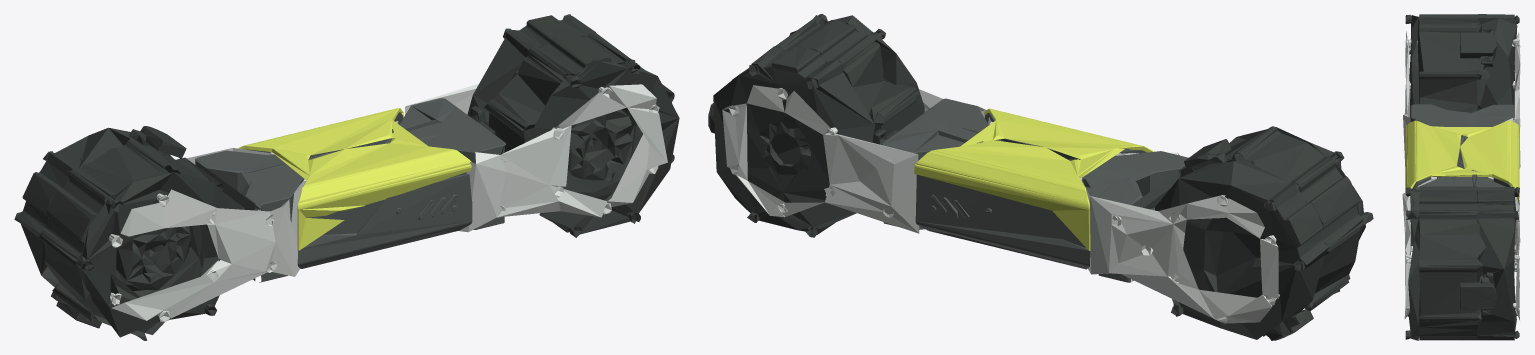
3 renders of one model, left to right at view 1: azimuth 30°, elevation 25°; view 2: azimuth 150°, elevation 25°; view 3: azimuth 270°, elevation 25°, orthographic. The views are drawn at different scales.
Visible parts, largest first — view 1: motor_2_3, cnc2, pla2_black, pla2_green; view 2: motor_2_3, cnc2, pla2_black, pla2_green; view 3: motor_2_3, pla2_green, pla2_black, cnc2.
Part boxes in pixels (left/top/right/bottom): motor_2_3: left=14, top=14, right=679, bottom=340; cnc2: left=108, top=83, right=667, bottom=322; pla2_black: left=195, top=98, right=505, bottom=282; pla2_green: left=238, top=108, right=471, bottom=250; motor_2_3: left=708, top=14, right=1373, bottom=340; cnc2: left=722, top=85, right=1279, bottom=323; pla2_black: left=882, top=98, right=1188, bottom=282; pla2_green: left=914, top=108, right=1153, bottom=250; motor_2_3: left=1405, top=14, right=1519, bottom=340; pla2_green: left=1405, top=120, right=1519, bottom=202; pla2_black: left=1410, top=104, right=1519, bottom=254; cnc2: left=1402, top=31, right=1520, bottom=320.
Size of the model in its own units: 0.3267 by 0.0909 by 0.0677.
